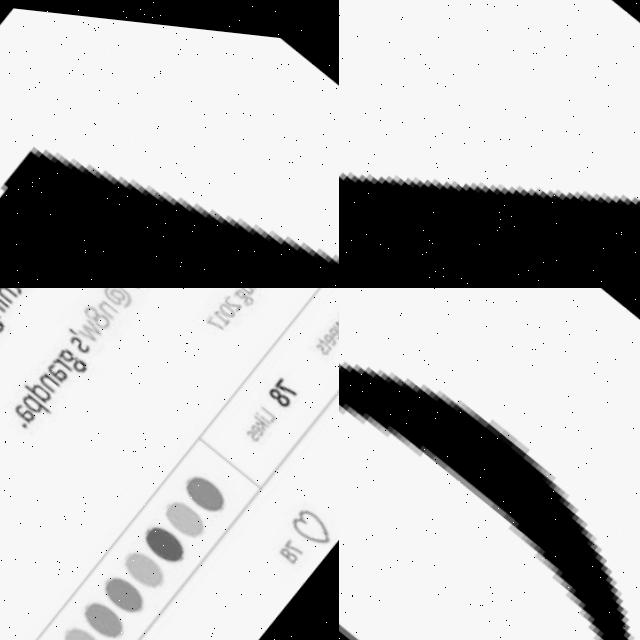0: (339, 288, 640, 640), (218, 288, 240, 307)
1: (214, 296, 236, 315)
2: (224, 288, 246, 301)
7: (277, 363, 304, 386), (290, 523, 314, 544), (207, 302, 230, 323)
8: (82, 293, 116, 322), (270, 371, 299, 396), (285, 530, 307, 550)
A: (0, 0, 339, 288), (339, 0, 640, 288), (48, 352, 77, 378), (15, 393, 44, 419)
D: (27, 368, 61, 397)
E: (253, 409, 273, 427), (325, 317, 339, 333), (329, 310, 339, 327)
G: (60, 336, 97, 368), (0, 298, 11, 329), (235, 288, 257, 294)
H: (0, 288, 23, 298)
I: (258, 397, 279, 413), (0, 288, 14, 301)
K: (255, 402, 274, 418)
L: (261, 392, 282, 410)
N: (40, 362, 67, 386), (99, 290, 123, 311), (0, 288, 11, 313)
P: (23, 383, 58, 413)
R: (54, 348, 78, 368)
S: (71, 324, 99, 347), (247, 414, 266, 431), (315, 326, 334, 342)
T: (319, 322, 337, 335)
W: (80, 309, 108, 337), (335, 301, 339, 320)
